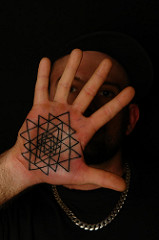palm: (21, 104, 94, 184)
